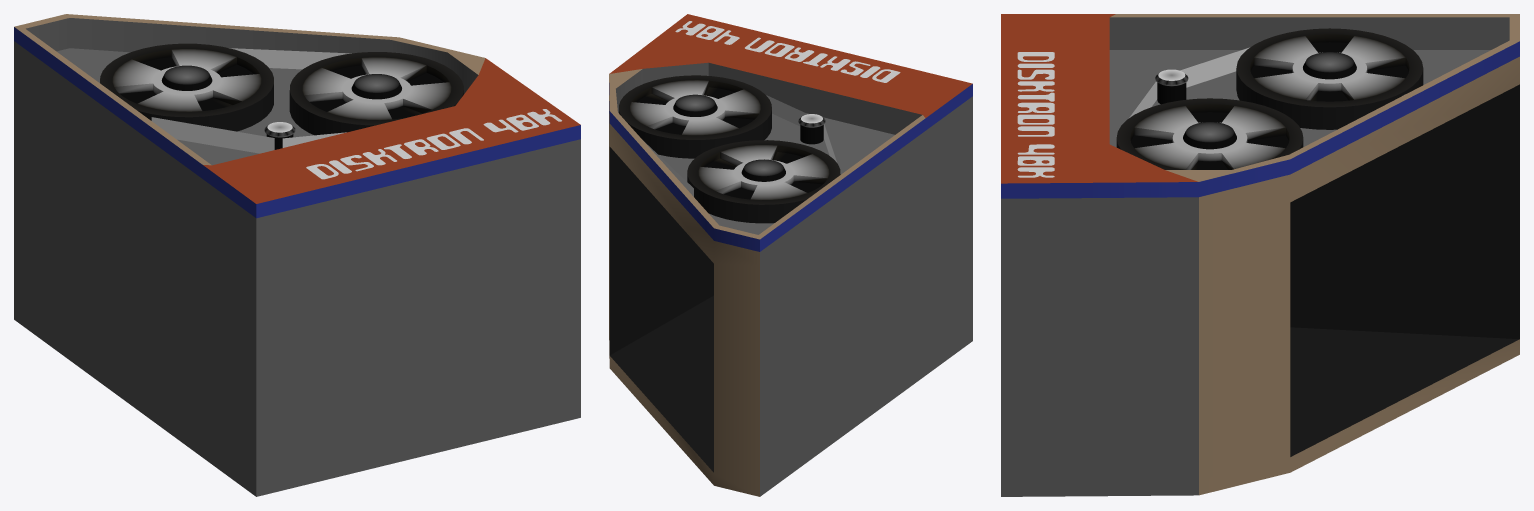
Rendered from FloppyMachine.fbx.
3 renders of one model, left to right at view 1: azimuth 30°, elevation 25°; view 2: azimuth 150°, elevation 25°; view 3: azimuth 270°, elevation 25°, orthographic. The views are drawn at different scales.
Visible parts, largest first — view 1: BaseShape, WheelTop, WheelBottom, Tape, Title; view 2: BaseShape, WheelBottom, WheelTop, Title, Tape, GuideWheel; view 3: BaseShape, WheelTop, WheelBottom, Title, Tape, GuideWheel.
Boxes of the visible parts, x1,y1,x2,y2 form: BaseShape: (14, 14, 580, 496); WheelTop: (100, 43, 273, 131); WheelBottom: (289, 52, 463, 135); Tape: (151, 48, 351, 153); Title: (306, 109, 561, 179); BaseShape: (609, 14, 972, 496); WheelBottom: (619, 75, 771, 158); WheelTop: (687, 140, 840, 223); Title: (675, 21, 900, 82); Tape: (643, 95, 836, 196); GuideWheel: (798, 114, 825, 144); BaseShape: (1001, 14, 1519, 496); WheelTop: (1236, 28, 1423, 129); WheelBottom: (1116, 98, 1303, 169); Title: (1017, 52, 1054, 177); Tape: (1129, 47, 1249, 117); GuideWheel: (1155, 69, 1188, 104).
Size of the model in its own units: 116 by 100 by 150.
